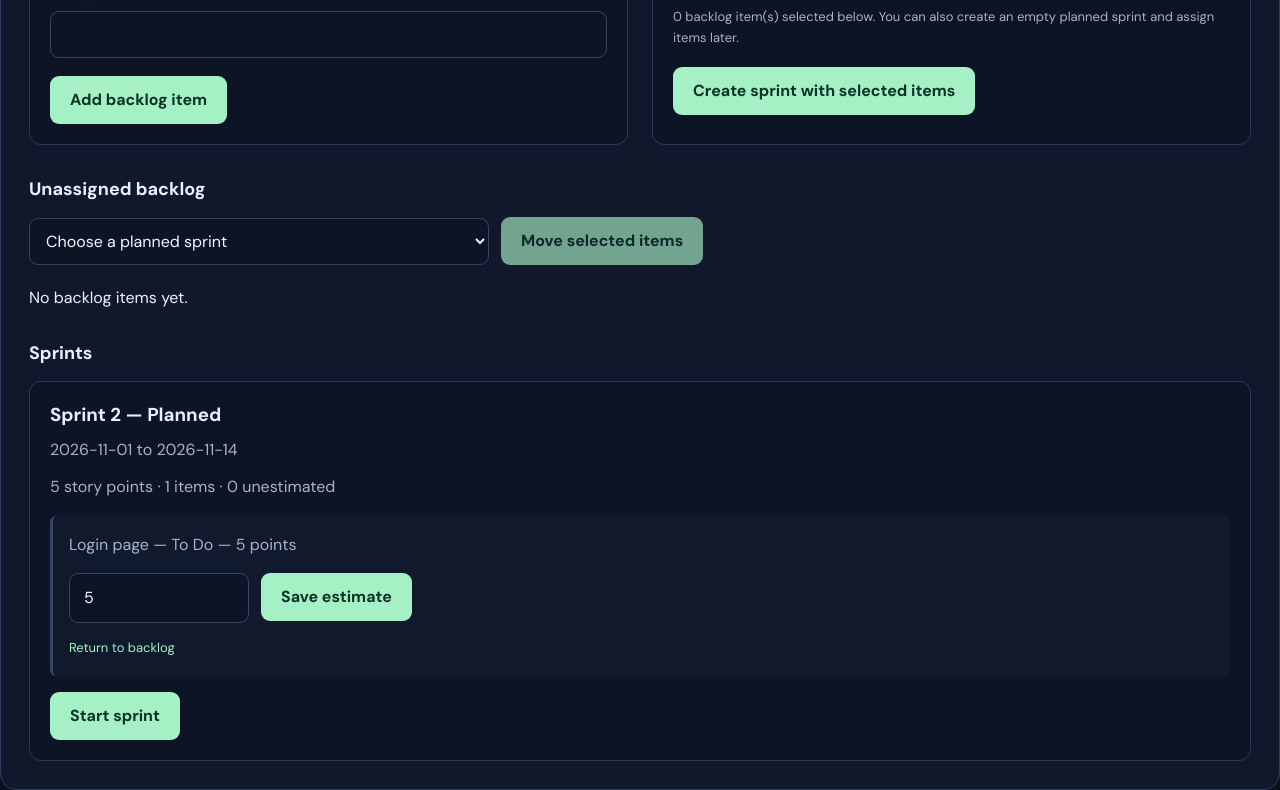
Test case: returns an unstarted item to backlog and refreshes totals
This screenshot has width=1280, height=790.
(page scrolled)
Click the button "Return to backlog": x=122, y=648 [69,635,175,660]
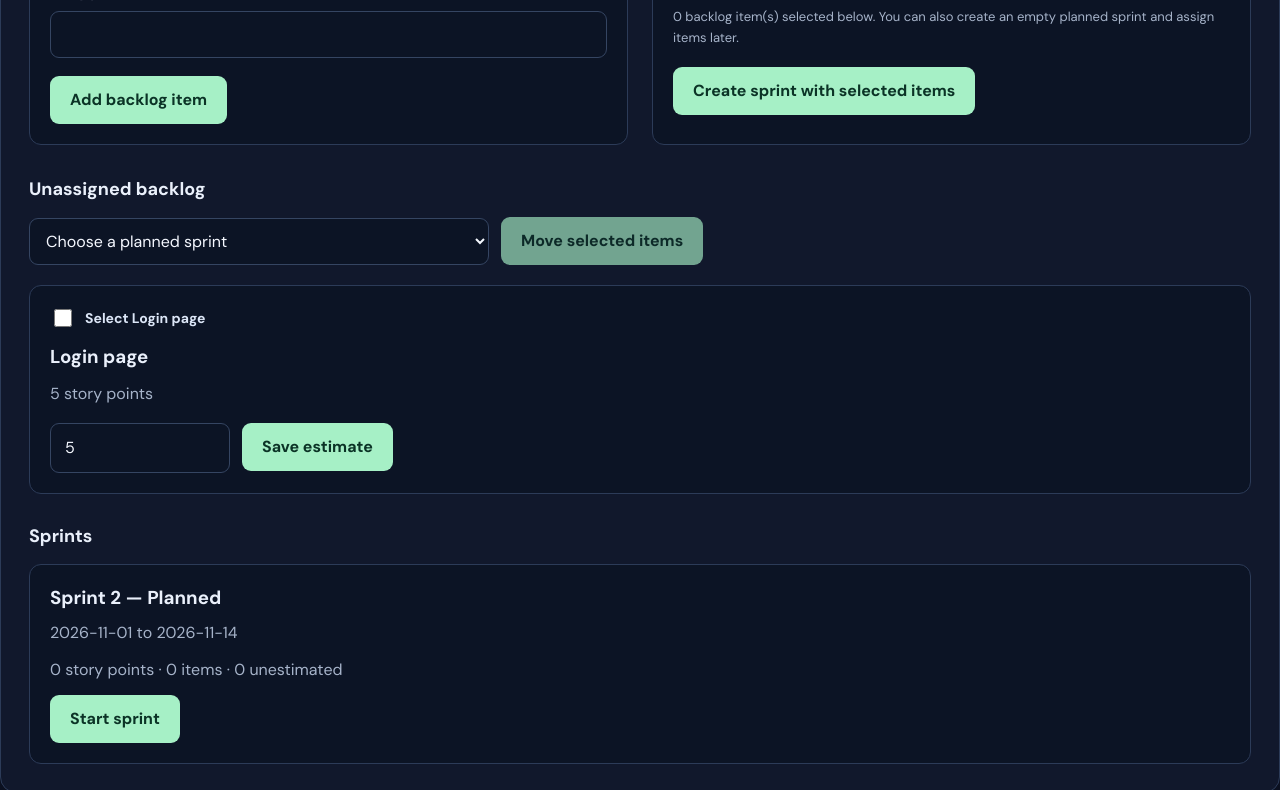
Result: the checkbox labelled "Select Login page" is shown at [54,309,72,327]
